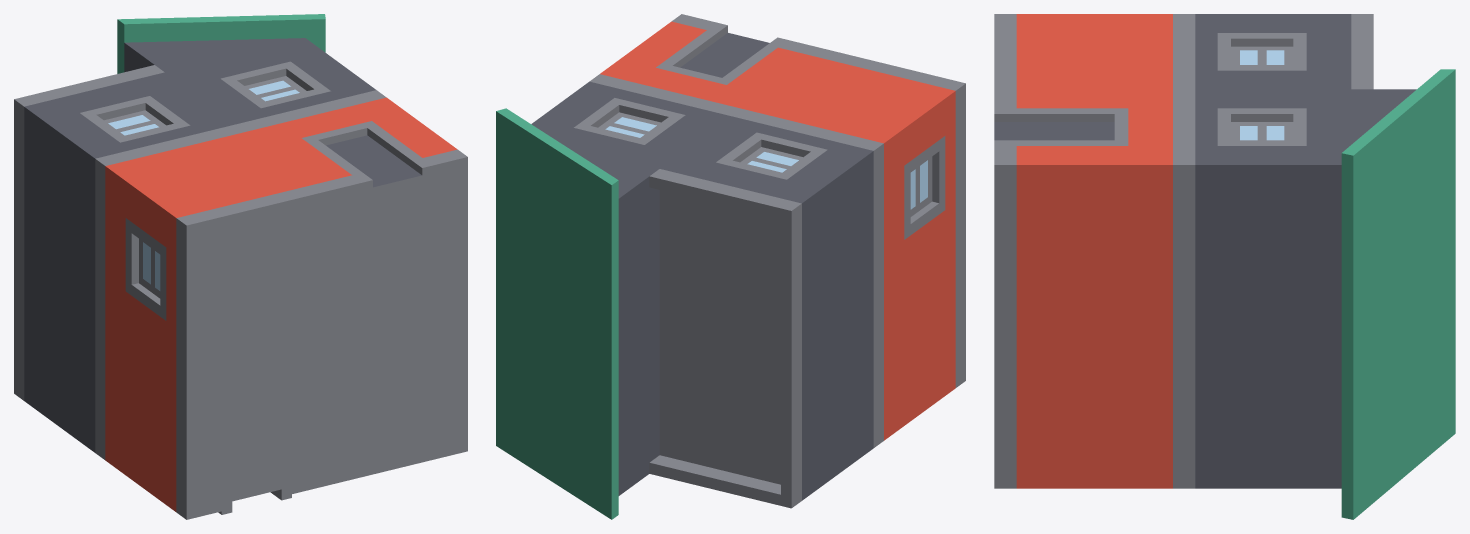
File: house_type21.001.obj
The picture shows the model from 3 angles, left to right: view 1: azimuth 30°, elevation 25°; view 2: azimuth 150°, elevation 25°; view 3: azimuth 270°, elevation 25°; orthographic projection. The views are drawn at different scales.
Parts seen in each view (by area): view 1: house_type21.001; view 2: house_type21.001; view 3: house_type21.001.
Part boxes in pixels (x1,y1,x2,y2): house_type21.001: (14, 14, 467, 519); house_type21.001: (496, 14, 965, 519); house_type21.001: (994, 14, 1455, 519).
Size of the model in its own units: 0.8581 by 0.9 by 1.03.
